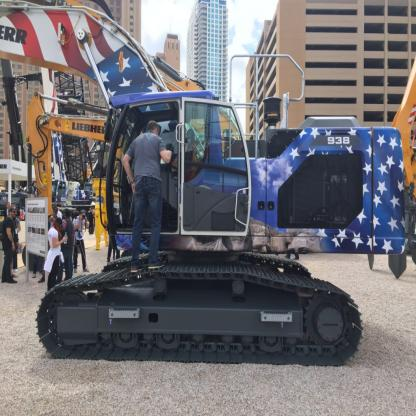excavator: (8, 4, 416, 387)
